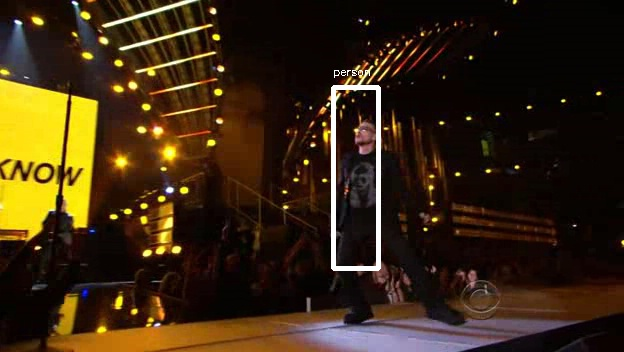person: (334, 120, 403, 237), (331, 120, 400, 237), (337, 120, 406, 237), (334, 117, 403, 234), (334, 123, 403, 240)
target_negative: (72, 170, 431, 348), (137, 78, 236, 255), (15, 80, 546, 112), (217, 22, 334, 53), (56, 253, 235, 259), (203, 279, 232, 310)
